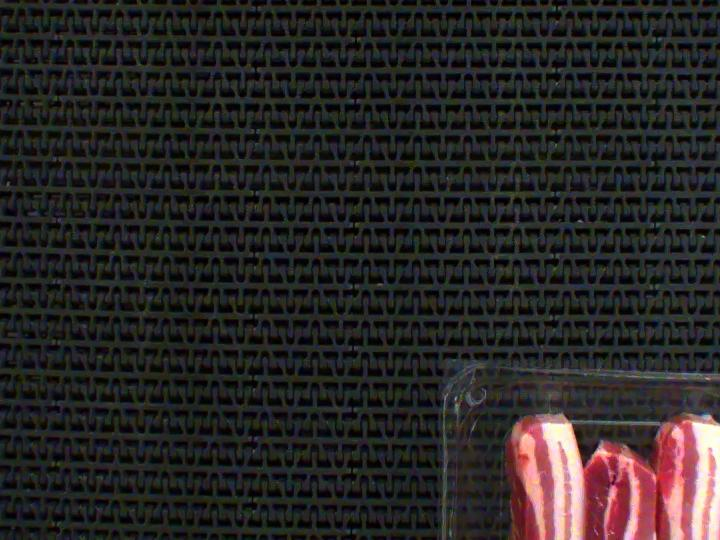packaging-error: (533, 380, 563, 421)
